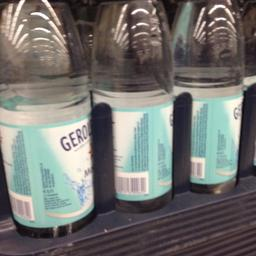water: (0, 0, 90, 238), (90, 0, 174, 210), (170, 0, 244, 195)
